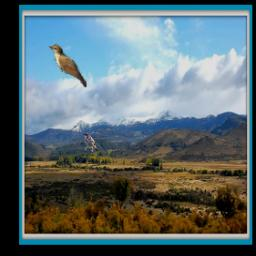Cuckoo: (48, 44, 87, 87)
Sparrow: (83, 133, 99, 153)
